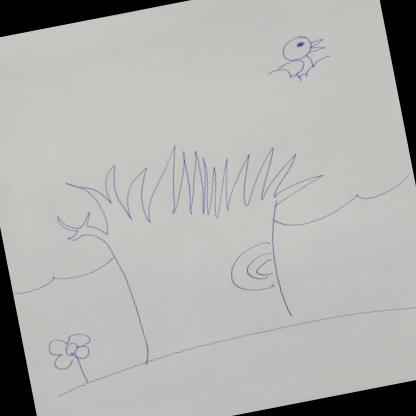bird: (272, 31, 328, 80)
branch_sharp: (46, 116, 326, 252)
crown_cloud: (0, 0, 416, 294)
knot: (224, 240, 282, 295)
root_none: (125, 295, 336, 384)
